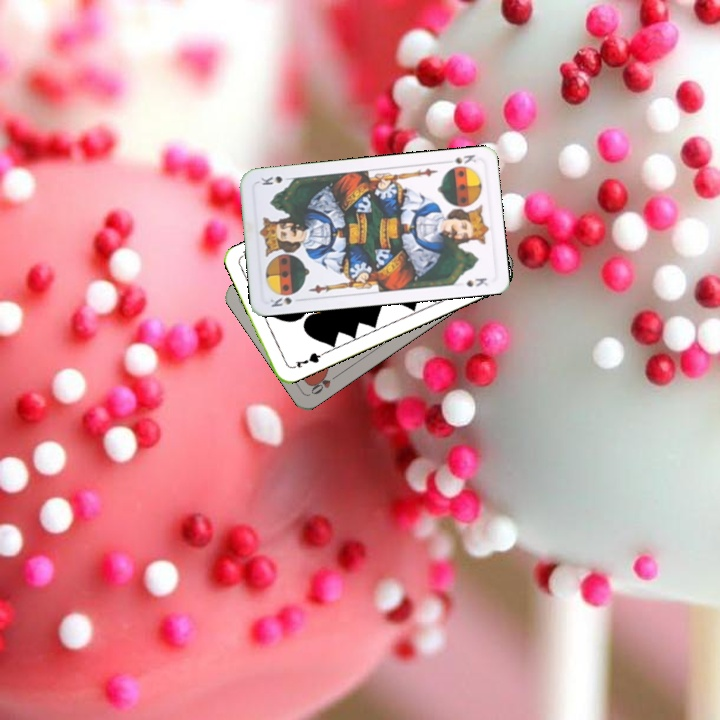G7: (287, 348, 326, 371)
HO: (306, 370, 342, 397)
SK: (449, 150, 479, 166), (266, 293, 294, 309)
